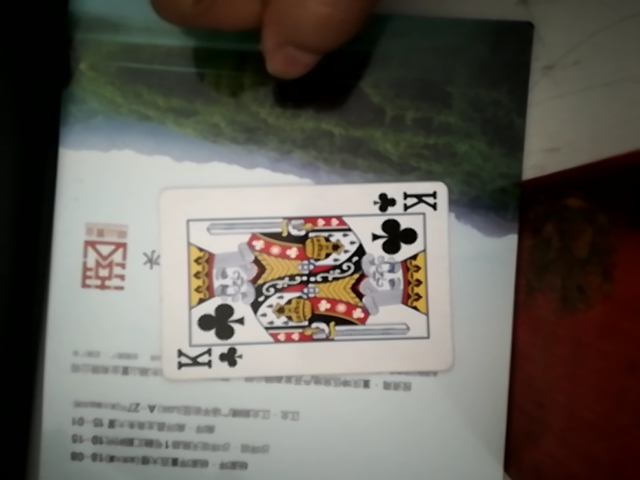mh k: (154, 175, 457, 391)
